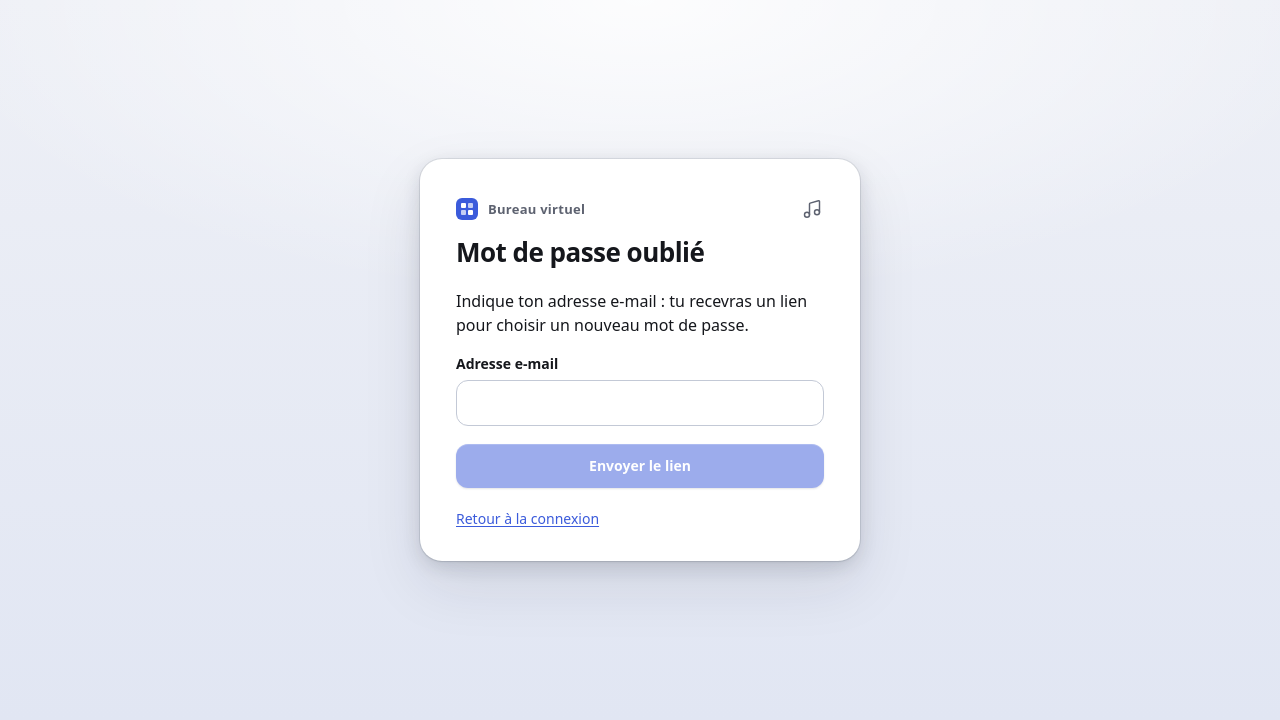
Test: mot de passe oublié › trop de demandes (429) → message, le formulaire reste là
In the field labelled "Adresse e-mail": (640, 403) [456,380,824,426], type "lea@x.fr"
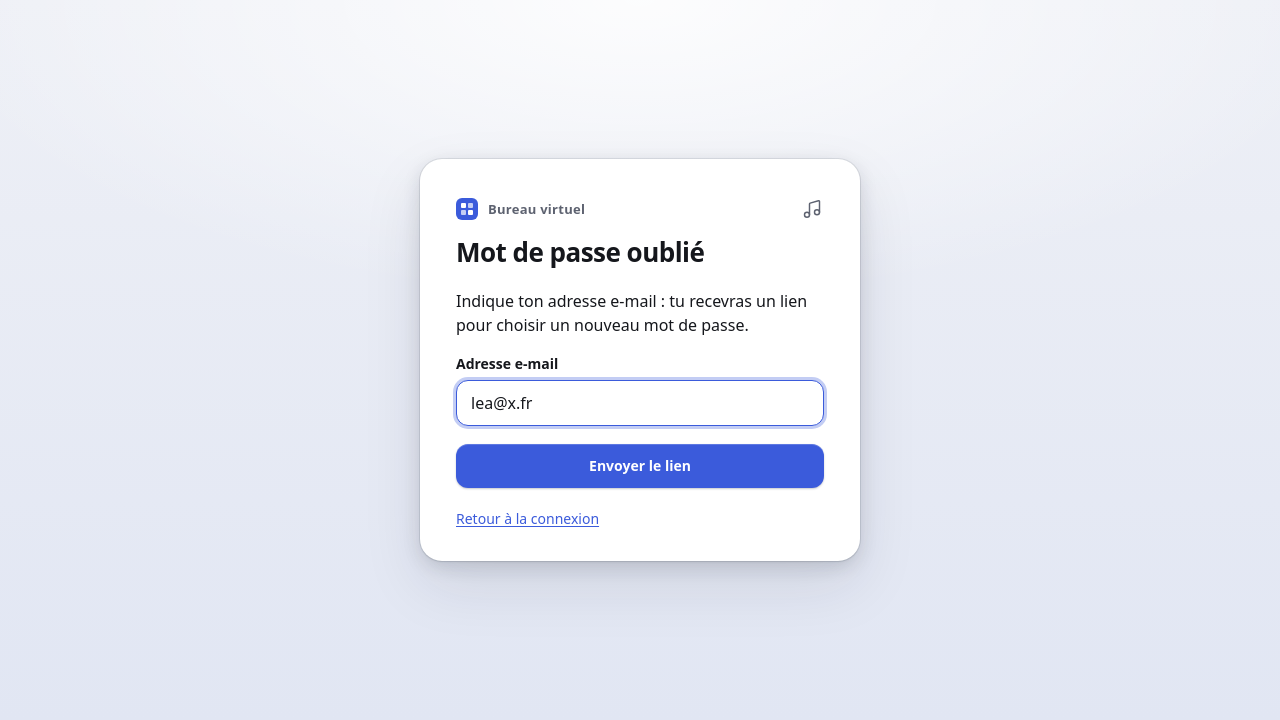
Click the button "Envoyer le lien": (640, 466) [456,444,824,488]
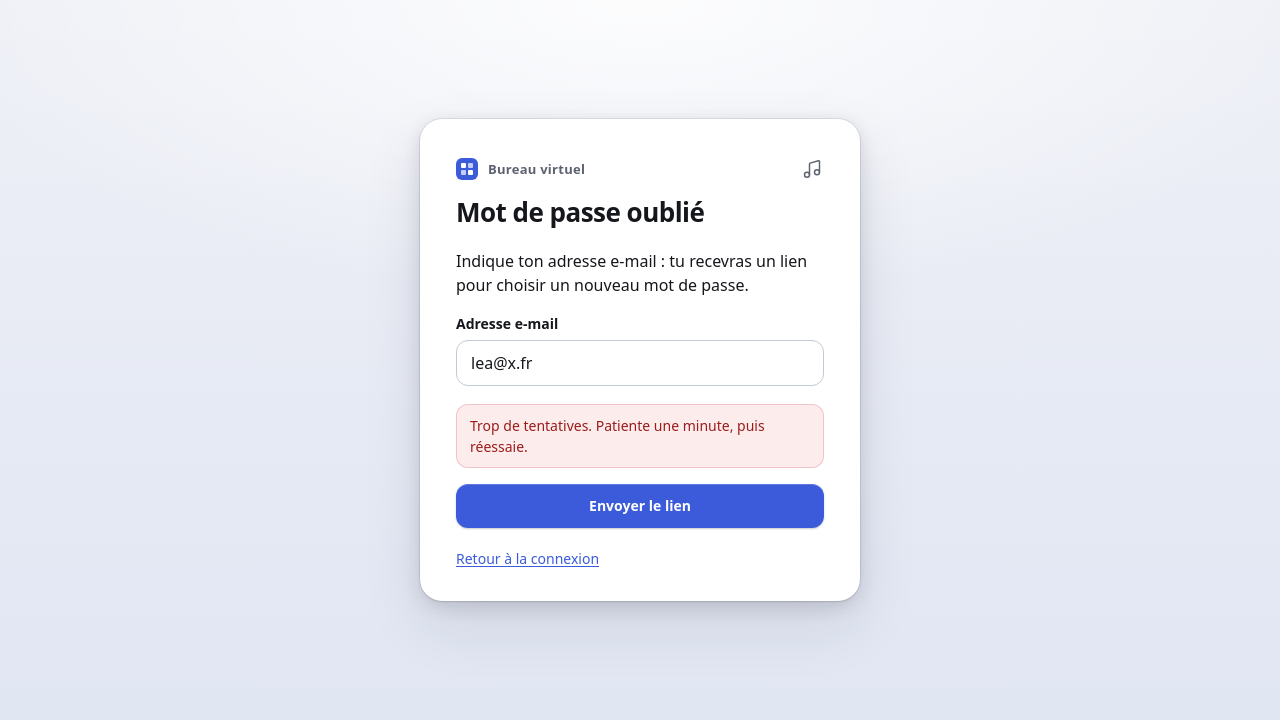
Expected: the message reads "Trop de tentatives. Patiente une minute, puis réessaie.", [470,416,765,456]
